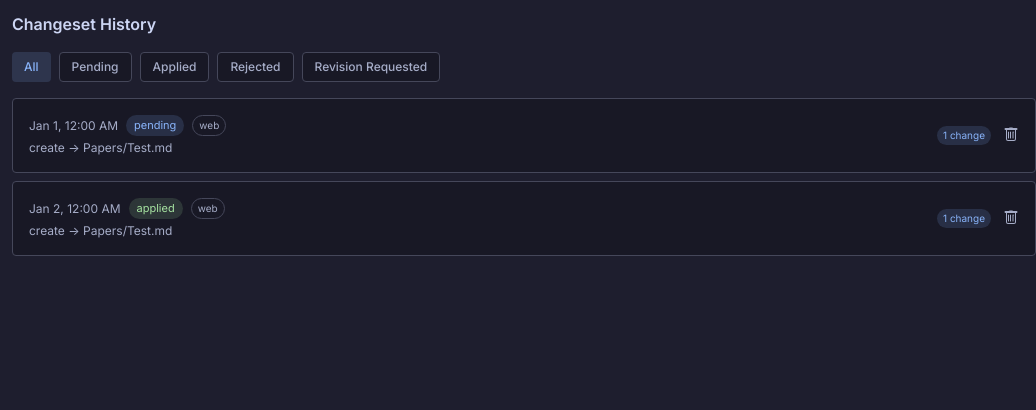
Test: ChangesetHistory › clicking a card opens detail view
Check: the button with test id "delete-cs-1" is shown, box [1003, 126, 1019, 142]
Note: Click the first card
Click the button with test id "delete-cs-1".
click(74, 125)  # box [12, 98, 1035, 173]
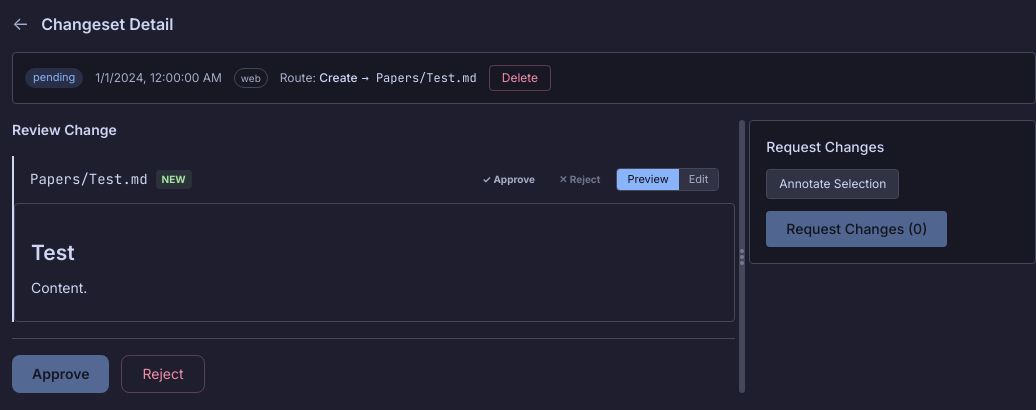
Check: the heading "Changeset Detail" is shown, box [41, 12, 174, 36]
